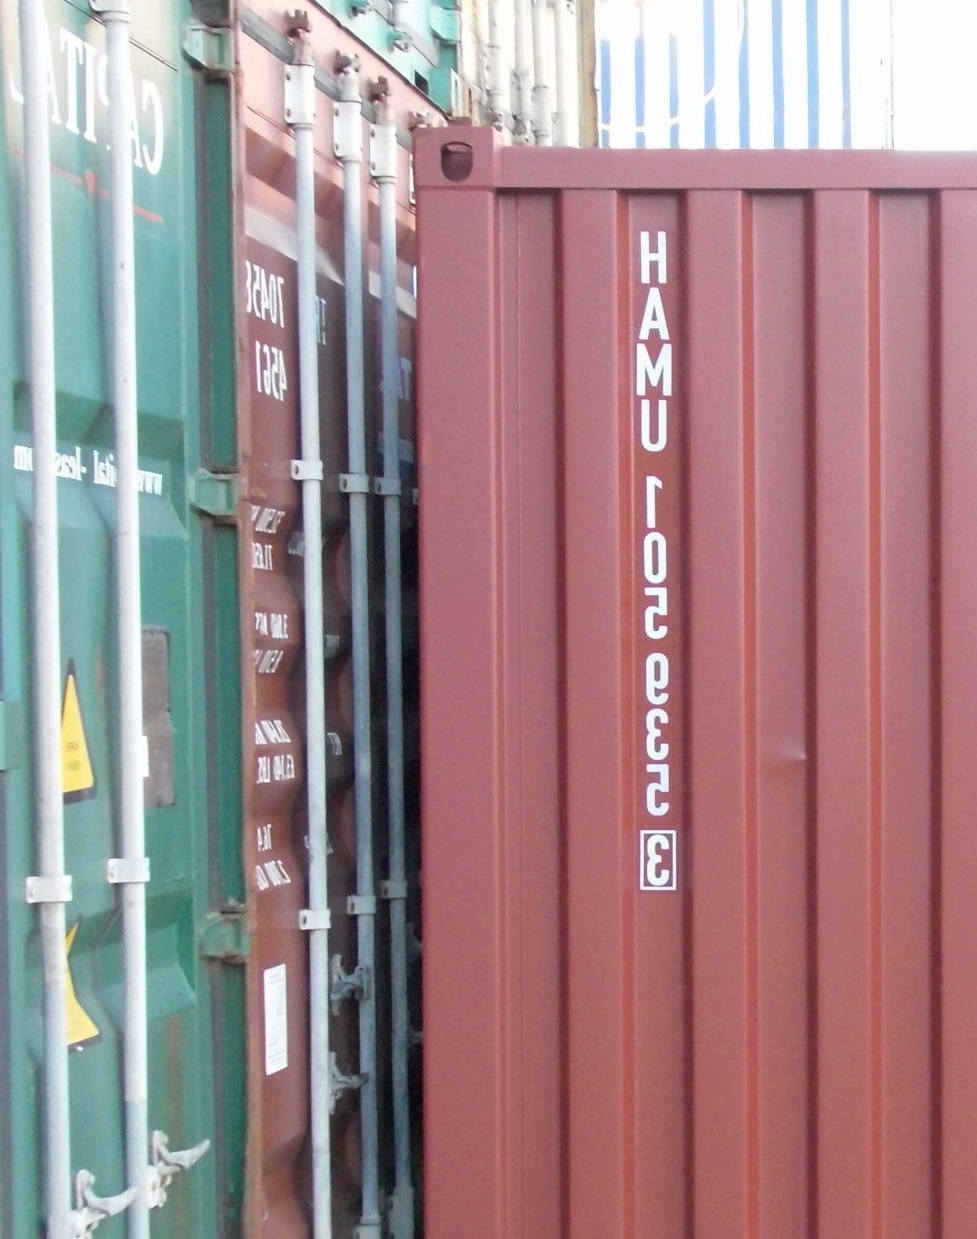container_door: (7, 6, 248, 1234), (239, 9, 413, 1239)
container_no_door: (417, 120, 971, 1236)
